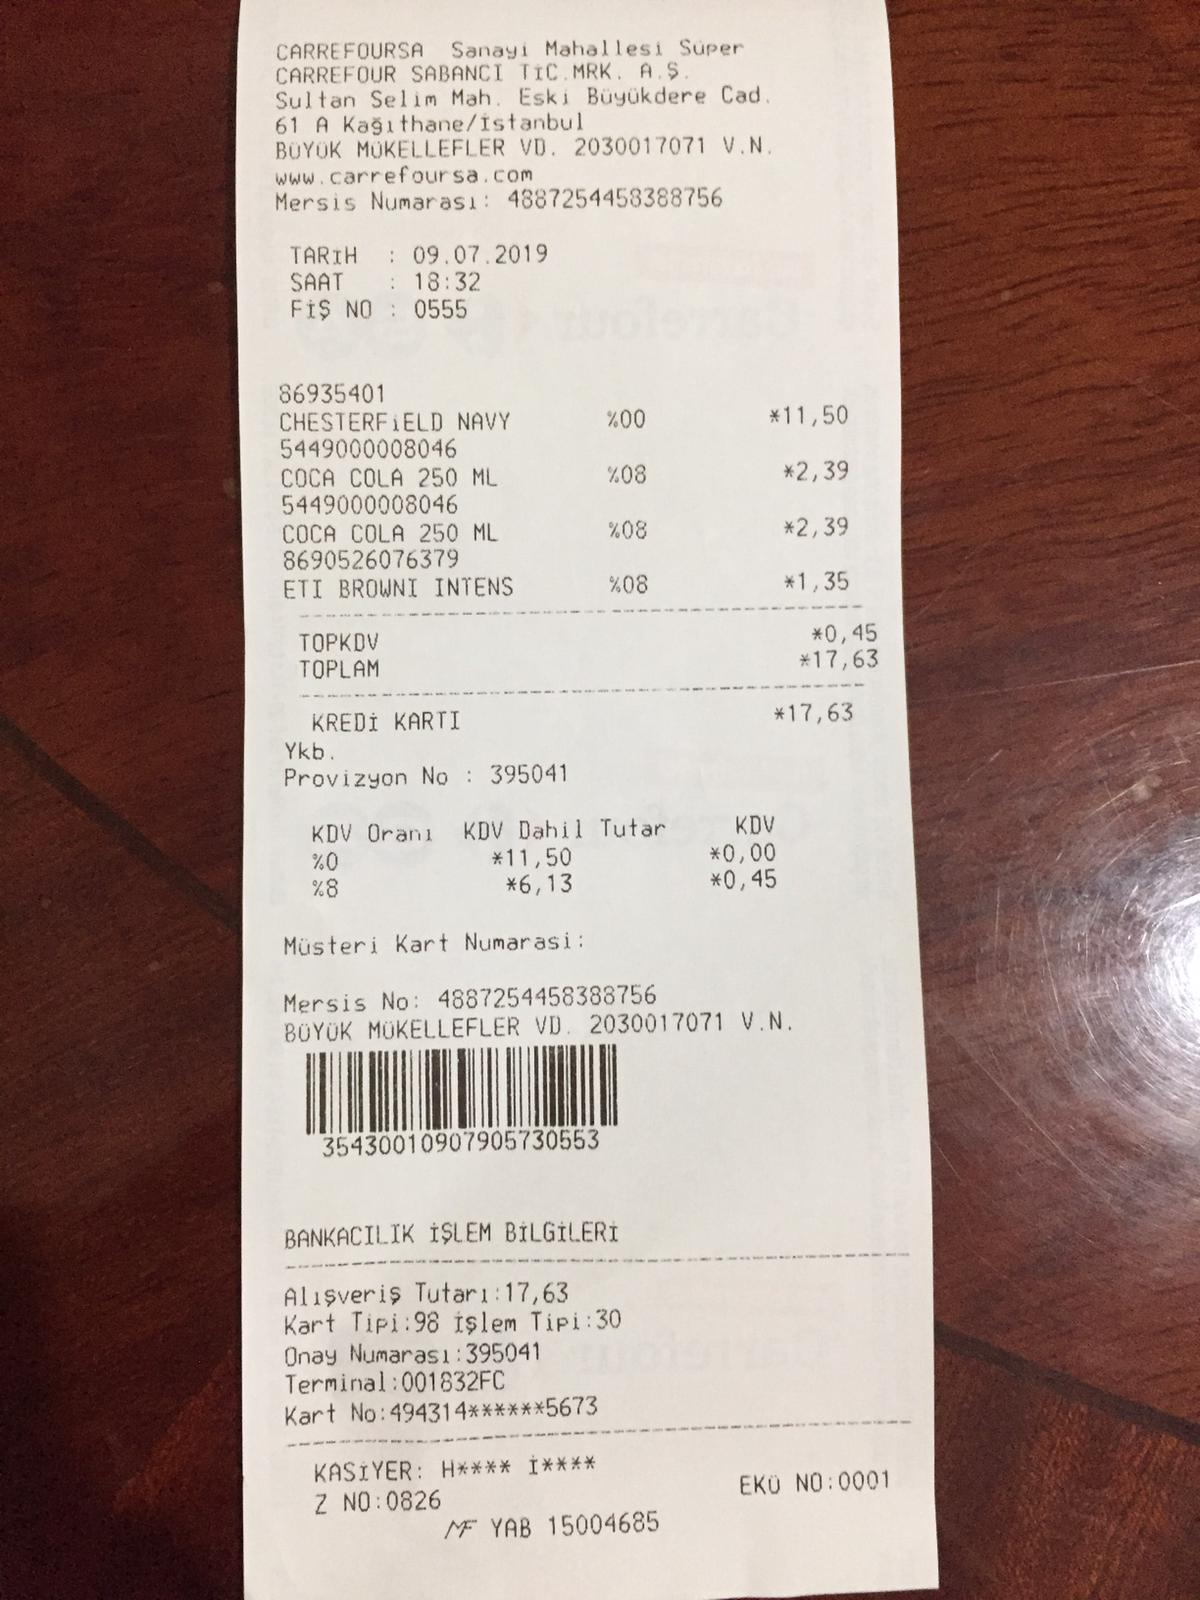total: (299, 647, 889, 682)
